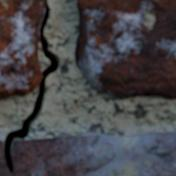brick: (75, 0, 175, 97), (0, 0, 44, 97)
broken_brick: (0, 131, 175, 175)
crack: (0, 2, 62, 173)
